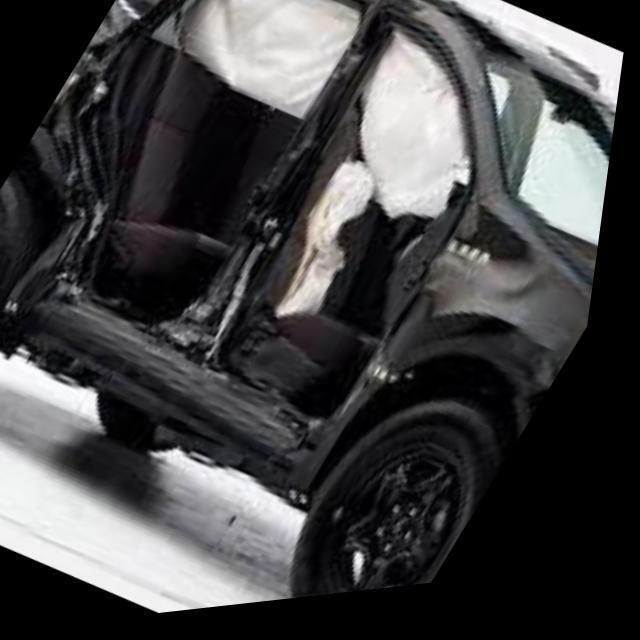no part: (13, 0, 567, 501)
